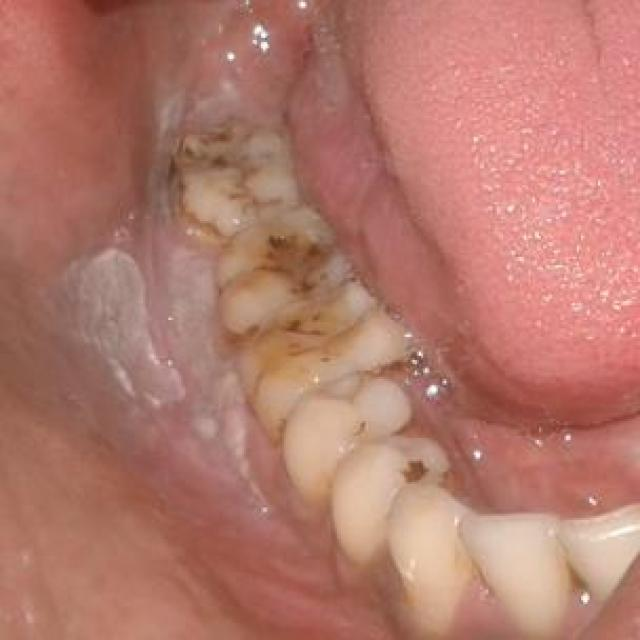leukoplakia-detection: (17, 4, 293, 552)
processing_area: (0, 0, 638, 638)
